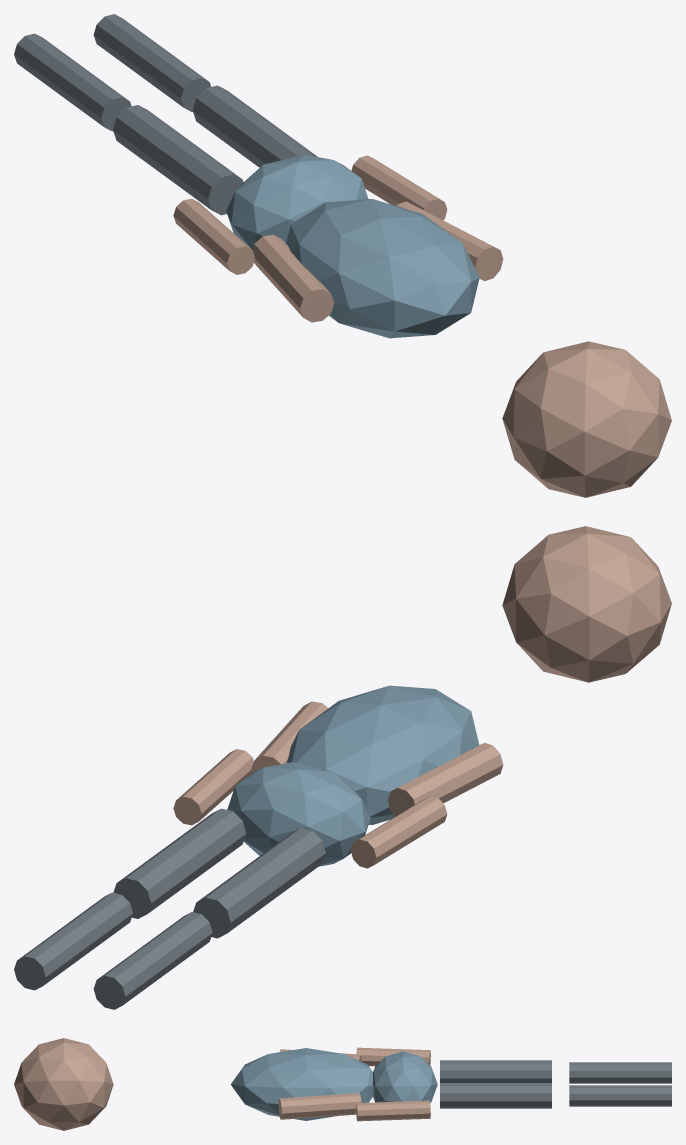
Rendered from child-low.glb.
3 renders of one model, top to bottom at view 1: azimuth 30°, elevation 25°; view 2: azimuth 150°, elevation 25°; view 3: azimuth 270°, elevation 25°, orthographic. The views are drawn at different scales.
Parts seen in each view (by area): view 1: head, torso, pelvis, left_thigh, right_thigh, right_lower_leg, left_lower_leg, left_upper_arm, left_forearm, right_forearm, right_upper_arm; view 2: head, torso, pelvis, right_thigh, left_thigh, left_lower_leg, right_lower_leg, left_upper_arm, left_forearm, right_forearm, right_upper_arm; view 3: head, torso, right_thigh, pelvis, left_thigh, left_lower_leg, right_lower_leg, right_upper_arm, right_forearm, left_forearm.
Part boxes in pixels (x1,y1,x2,y2): head: [502, 341, 671, 497]; torso: [286, 199, 479, 338]; pelvis: [226, 154, 368, 249]; left_thigh: [113, 105, 243, 215]; right_thigh: [192, 85, 317, 167]; right_lower_leg: [93, 14, 211, 111]; left_lower_leg: [14, 33, 131, 131]; left_upper_arm: [252, 234, 334, 322]; left_forearm: [173, 198, 254, 274]; right_forearm: [351, 155, 447, 220]; right_upper_arm: [396, 201, 503, 281]; head: [502, 526, 671, 682]; torso: [286, 685, 479, 824]; pelvis: [227, 762, 370, 866]; right_thigh: [113, 808, 246, 918]; left_thigh: [193, 828, 325, 938]; left_lower_leg: [93, 912, 212, 1009]; right_lower_leg: [14, 892, 132, 990]; left_upper_arm: [387, 742, 503, 816]; left_forearm: [350, 796, 447, 868]; right_forearm: [173, 749, 253, 825]; right_upper_arm: [251, 701, 328, 773]; head: [14, 1038, 113, 1130]; torso: [231, 1048, 373, 1120]; right_thigh: [440, 1083, 551, 1108]; pelvis: [373, 1051, 437, 1102]; left_thigh: [440, 1060, 551, 1082]; left_lower_leg: [569, 1062, 671, 1083]; right_lower_leg: [569, 1085, 671, 1106]; right_upper_arm: [278, 1093, 361, 1119]; right_forearm: [356, 1100, 430, 1121]; left_forearm: [356, 1047, 430, 1066].
Bounding box in the file's own units: 1.08 × 0.6624 × 4.75.
